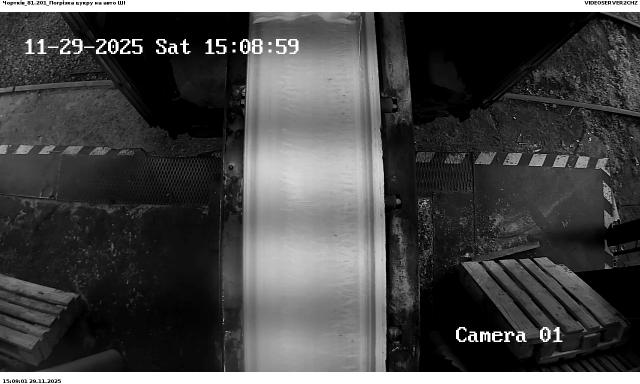bag: (252, 12, 365, 23)
